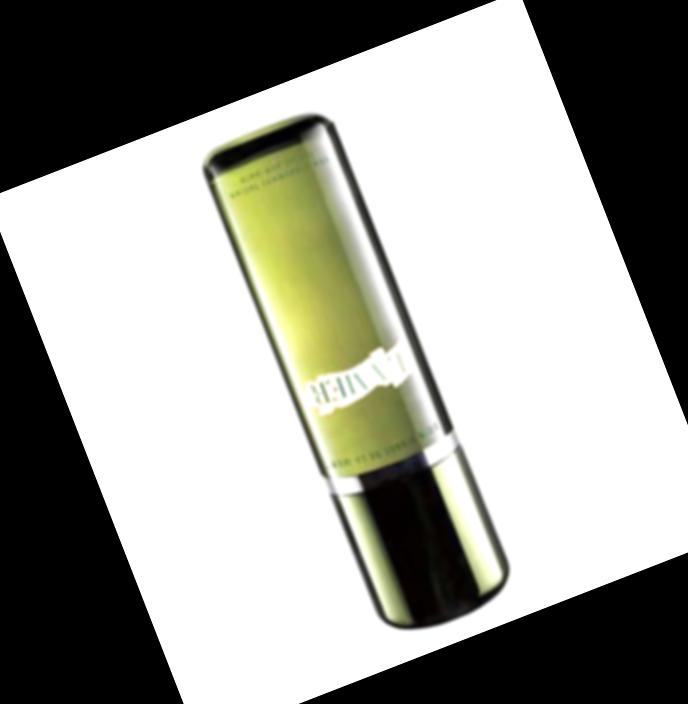cosmetic: (190, 105, 516, 641)
